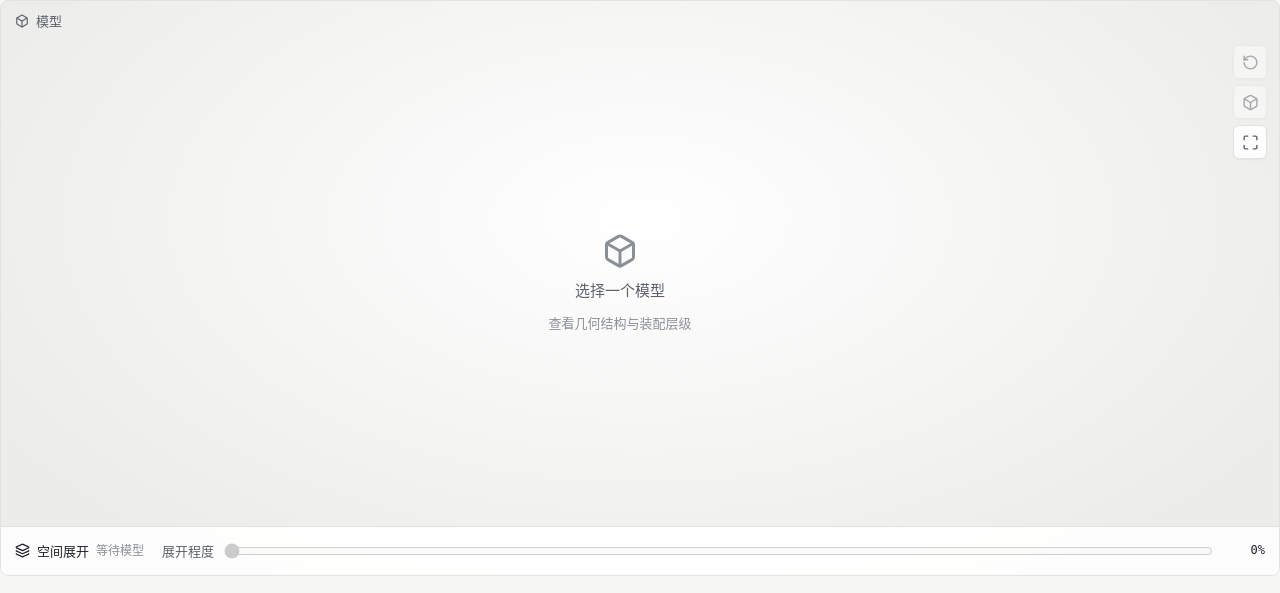
Test: fullscreen state › unsupported fullscreen stays nonfatal
Click the button named "全屏查看".
click(1250, 142)  # box 1233,125 -> 1267,159
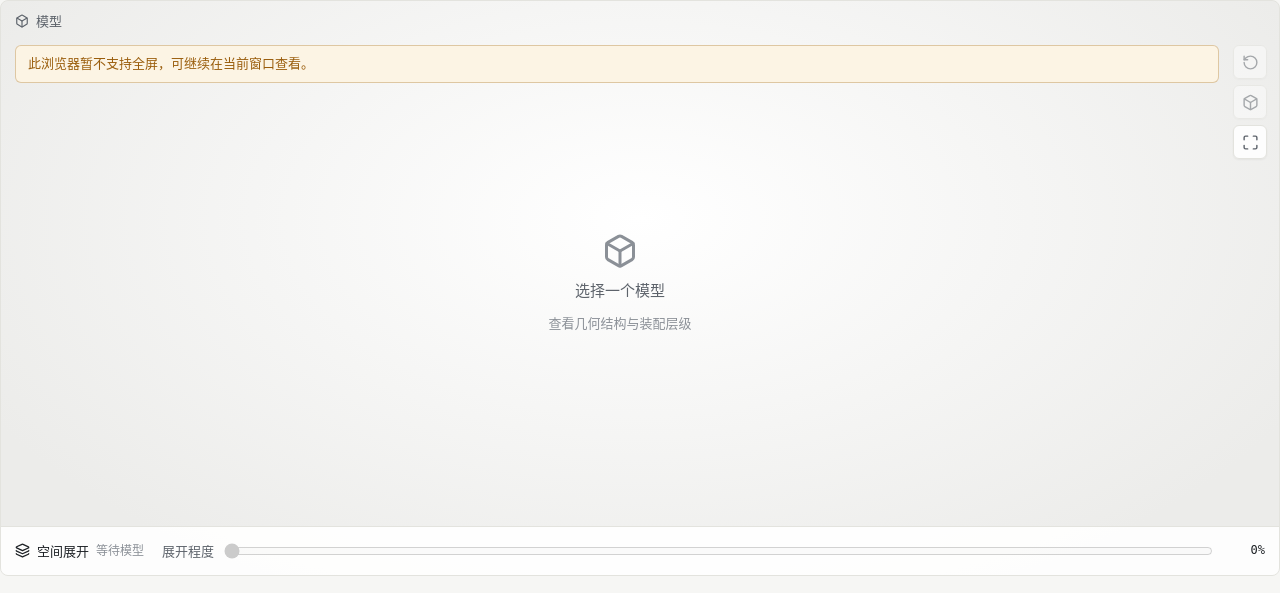
expect the text "此浏览器暂不支持全屏，可继续在当前窗口查看。" is shown: met, box 15,45 -> 1219,82
